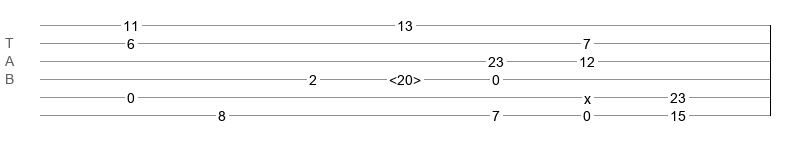0: (127, 90, 135, 100), (492, 72, 500, 82), (583, 108, 591, 118)
11: (123, 18, 139, 28)
12: (579, 54, 595, 64)
13: (397, 18, 413, 28)
15: (670, 108, 686, 118)
2: (309, 72, 317, 82)
23: (488, 54, 504, 64), (670, 90, 686, 100)
6: (127, 36, 135, 46)
7: (492, 108, 500, 118), (583, 36, 591, 46)
8: (218, 108, 226, 118)
harmonic: (389, 72, 421, 82)
x: (584, 91, 591, 99)
